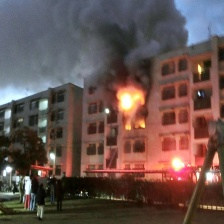fire: (117, 86, 145, 115)
smoke: (1, 1, 198, 86)
